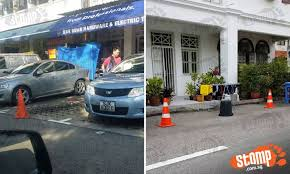car: (85, 52, 145, 124), (1, 61, 89, 105)
cone: (154, 97, 179, 130), (15, 88, 30, 122), (263, 89, 277, 110)
